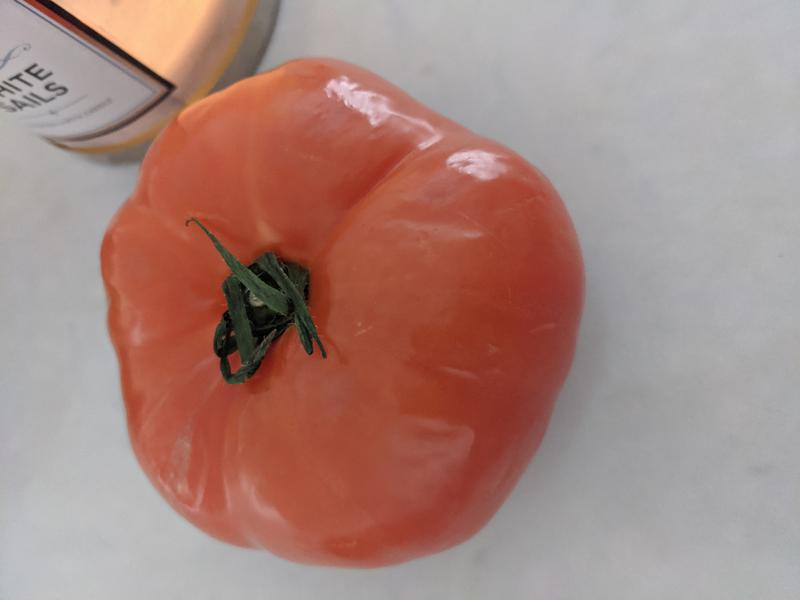tomato: (98, 59, 586, 570)
